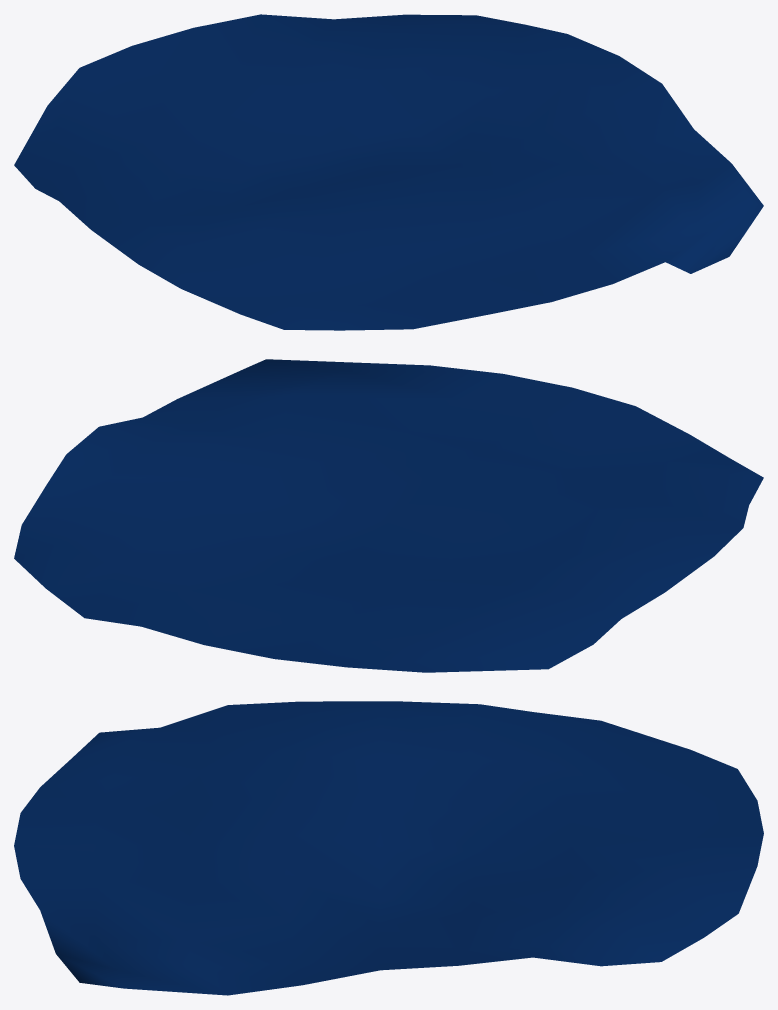
The model's file is Lac_modifier.fbx.
3 views of the same model, one above another, from view 1: azimuth 30°, elevation 25°; view 2: azimuth 150°, elevation 25°; view 3: azimuth 270°, elevation 25° (orthographic). The views are drawn at different scales.
Visible parts, largest first — view 1: Lac; view 2: Lac; view 3: Lac.
Boxes of the visible parts, x1,y1,x2,y2 form: Lac: (14,14,763,330); Lac: (14,359,763,672); Lac: (14,701,763,995).
Bounding box in the file's own units: 33.09 × 2.87 × 36.61.
